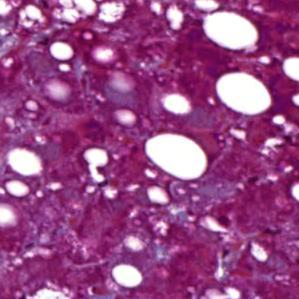steatosis: (145, 132, 211, 181), (210, 71, 276, 119), (202, 11, 261, 55)
